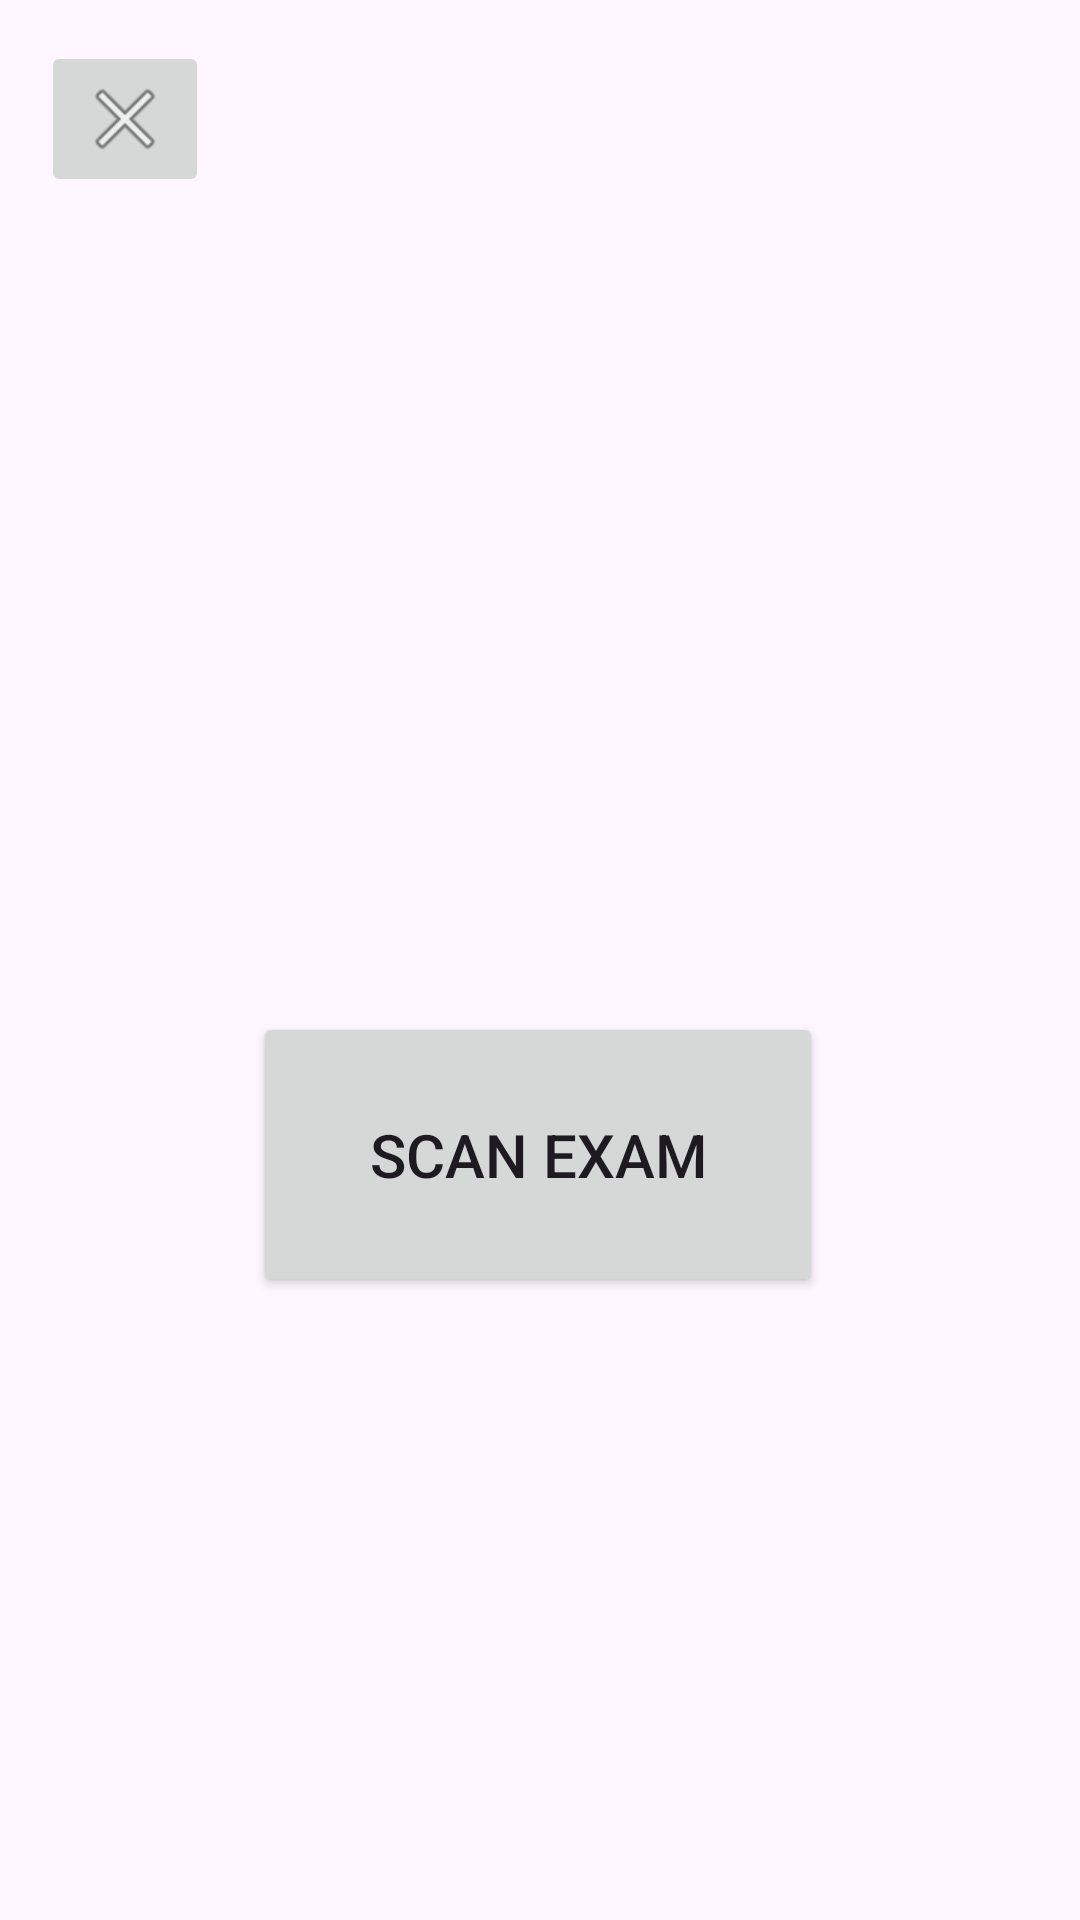

Where icons sit on this 1080*1920 app screen, as [x1, y1, x2, y2]:
close clear cancel: [53, 59, 197, 179]
